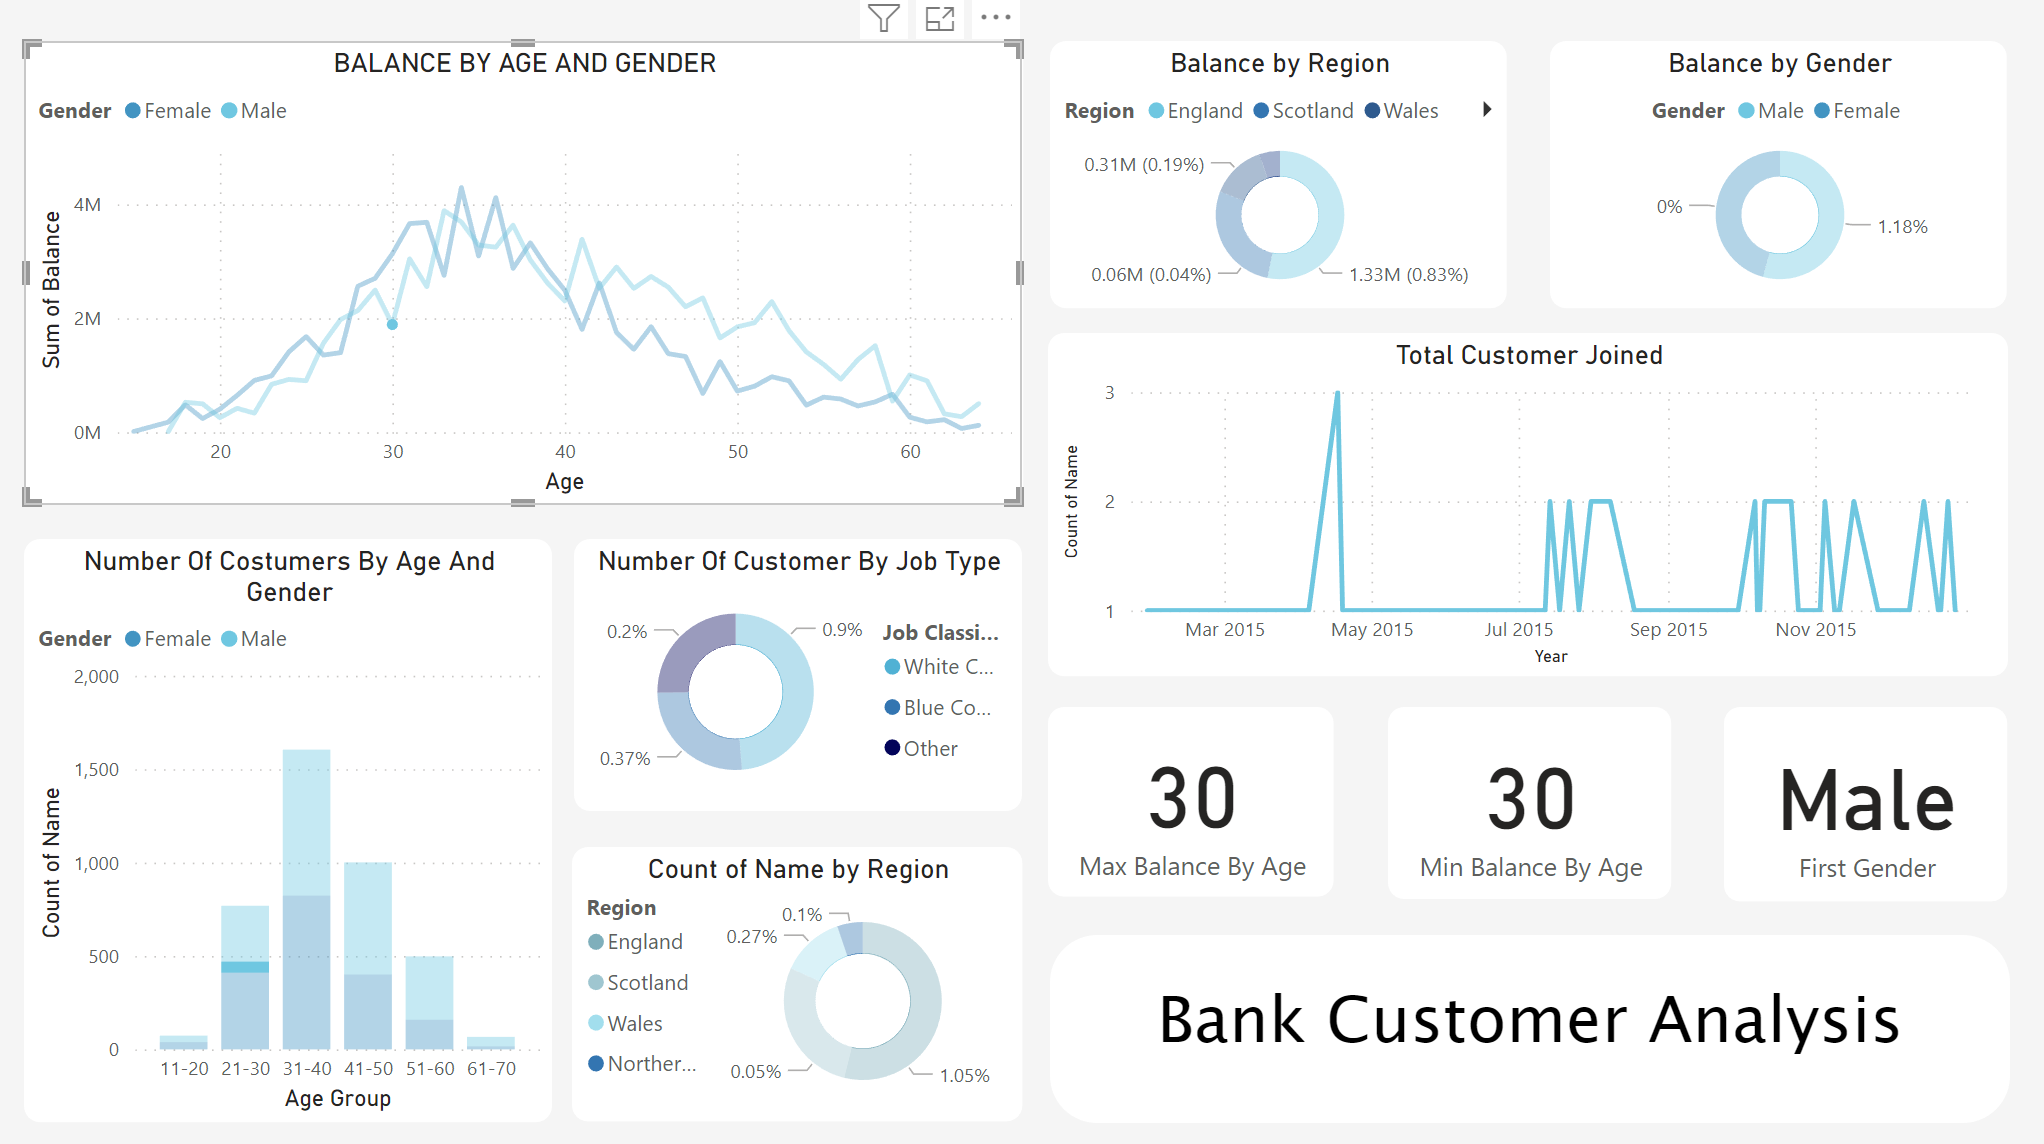

The dashboard page shown, as its layout file describes it:
{"tool":"powerbi","page":{"name":"Page 1","canvas":[1280,720],"ordinal":0},"visuals":[{"type":"lineChart","title":"BALANCE BY AGE AND GENDER","fields":{"Y":["Sum(Bank Data Analysis.Balance)"],"Category":["Bank Data Analysis.Age"],"Series":["Bank Data Analysis.Gender"]},"box":[15.7,27.1,624.3,290],"z":0},{"type":"columnChart","title":"Number Of Costumers By Age And Gender","fields":{"Category":["Bank Data Analysis.Age Group"],"Y":["CountNonNull(Bank Data Analysis.Name)"],"Series":["Bank Data Analysis.Gender"]},"box":[15.7,338.6,330,364.3],"z":1000},{"type":"donutChart","fields":{"Y":["CountNonNull(Bank Data Analysis.Name)"],"Category":["Bank Data Analysis.Region"]},"box":[358.6,531.4,281.4,171.4],"z":2000},{"type":"donutChart","title":"Balance by Region","fields":{"Y":["Sum(Bank Data Analysis.Balance)"],"Category":["Bank Data Analysis.Region"]},"box":[657.1,27.1,285.7,167.1],"z":3000},{"type":"donutChart","title":"Number Of Customer By Job Type ","fields":{"Category":["Bank Data Analysis.Job Classification"],"Y":["CountNonNull(Bank Data Analysis.Name)"]},"box":[360,338.6,280,170],"z":4000},{"type":"donutChart","title":"Balance by Gender","fields":{"Category":["Bank Data Analysis.Gender"],"Y":["Sum(Bank Data Analysis.Balance)"]},"box":[970,27.1,285.7,167.1],"z":5000},{"type":"lineChart","title":"Total Customer Joined","fields":{"Category":["Bank Data Analysis.Date Joined.Variation.Date Hierarchy.Year","Bank Data Analysis.Date Joined.Variation.Date Hierarchy.Quarter","Bank Data Analysis.Date Joined.Variation.Date Hierarchy.Month","Bank Data Analysis.Date Joined.Variation.Date Hierarchy.Day"],"Y":["CountNonNull(Bank Data Analysis.Name)"]},"box":[655.7,210,600,214.3],"z":6000},{"type":"card","fields":{"Values":["Max(Bank Data Analysis.Age)"]},"box":[655.7,444.3,178.6,118.6],"z":7000},{"type":"card","fields":{"Values":["Min(Bank Data Analysis.Age)"]},"box":[868.6,444.3,177.1,120],"z":8000},{"type":"card","fields":{"Values":["Min(Bank Data Analysis.Gender)"]},"box":[1078.6,444.3,177.1,121.4],"z":9000},{"type":"shape","box":[657.5,586.2,600,117.5],"z":9001}]}

Visuals, with their boxes on the page's 1280x720 design canvas (x1, y1, x2, y2). These are canvas units, not pixel positions in the 2044x1144 screenshot, which may show the page scaled, cropped or inside an application window:
"BALANCE BY AGE AND GENDER" lineChart: 16, 27, 640, 317
"Number Of Costumers By Age And Gender" columnChart: 16, 339, 346, 703
donutChart - CountNonNull(Bank Data Analysis.Name) x Bank Data Analysis.Region: 359, 531, 640, 703
"Balance by Region" donutChart: 657, 27, 943, 194
"Number Of Customer By Job Type " donutChart: 360, 339, 640, 509
"Balance by Gender" donutChart: 970, 27, 1256, 194
"Total Customer Joined" lineChart: 656, 210, 1256, 424
card - Max(Bank Data Analysis.Age): 656, 444, 834, 563
card - Min(Bank Data Analysis.Age): 869, 444, 1046, 564
card - Min(Bank Data Analysis.Gender): 1079, 444, 1256, 566
shape: 658, 586, 1258, 704
